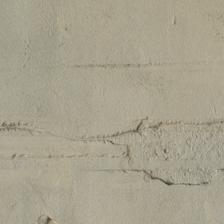Crack: (18, 64, 94, 160), (89, 77, 125, 149)
